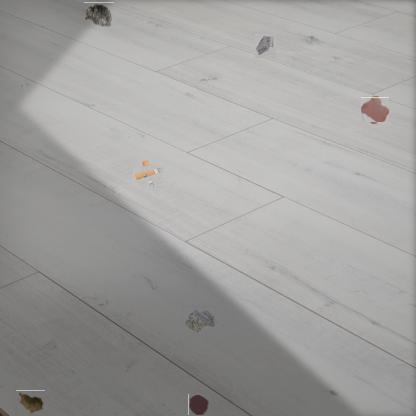dirty: (182, 306, 218, 334), (84, 2, 114, 29), (16, 390, 46, 415), (136, 161, 160, 185), (256, 35, 278, 58)
liquid: (362, 97, 389, 123), (188, 394, 210, 415)
